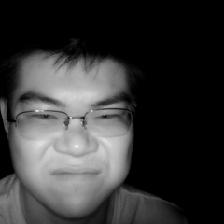sad: (10, 26, 147, 224)
